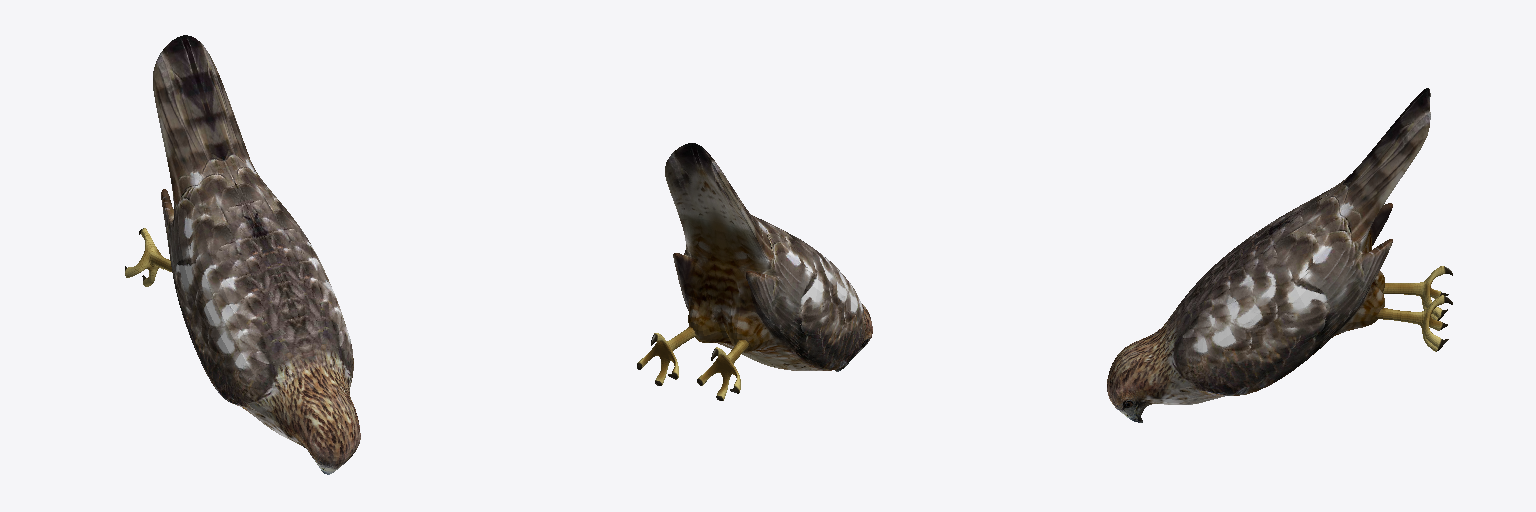
3 renders of one model, left to right at view 1: azimuth 30°, elevation 25°; view 2: azimuth 150°, elevation 25°; view 3: azimuth 270°, elevation 25°, orthographic.
Parts seen in each view (by area): view 1: hawk; view 2: hawk; view 3: hawk.
Boxes of the visible parts, box(x1,y1,x2,y2) form: hawk: box(125, 35, 360, 474); hawk: box(637, 143, 872, 400); hawk: box(1107, 88, 1452, 422).
Size of the model in its own units: 13.13 by 33.18 by 31.3.
Materials: 1 (1 with a texture image).